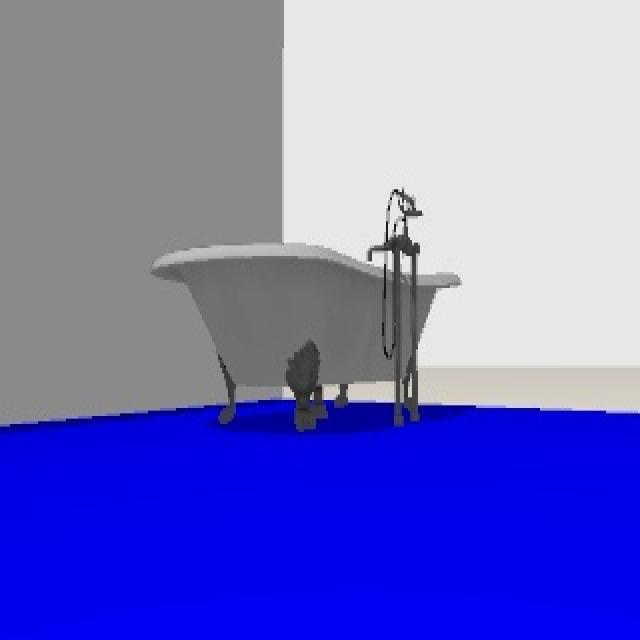bathtub: (155, 185, 461, 432)
